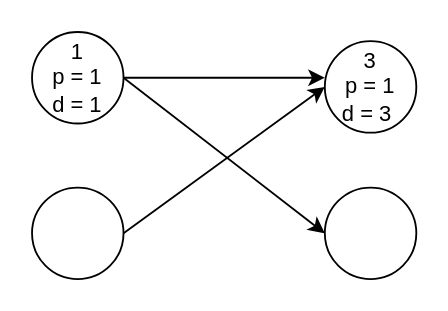
This 448x311 diagram has some shape labels left out. The centre of each missing label's shape, as x and y in pixels:
2 p = 1 d = 2: (77,232)
4 p = 1 d = 1: (369,232)
